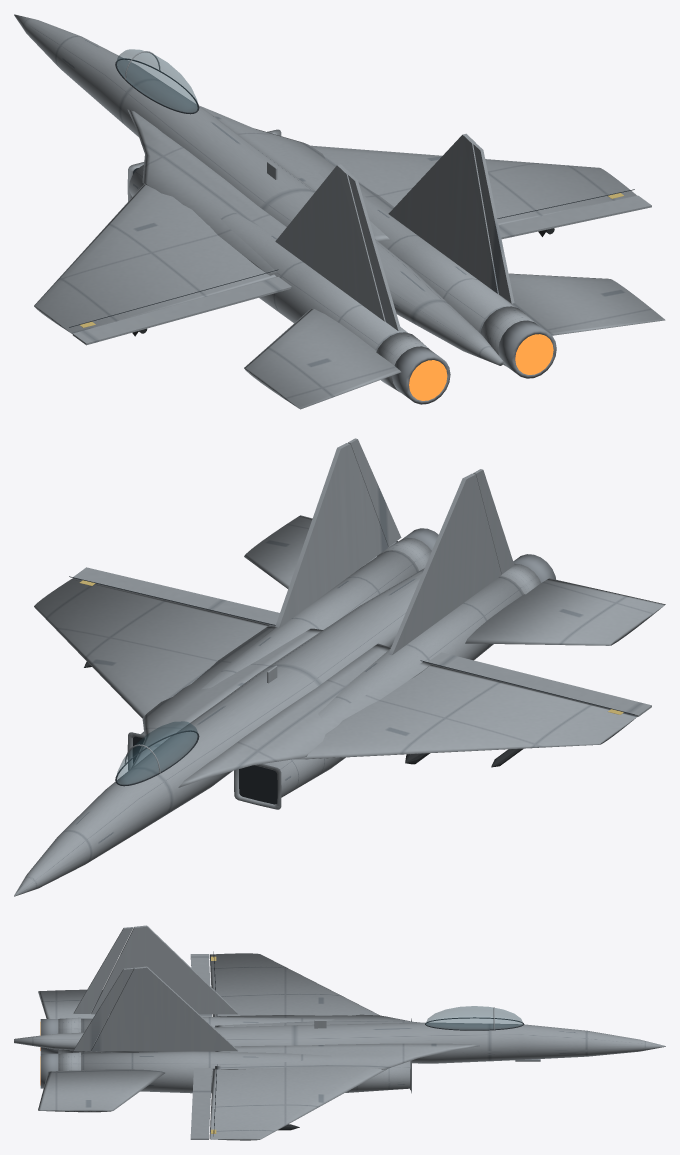
The model's file is wings_su35s.glb.
3 renders of one model, top to bottom at view 1: azimuth 30°, elevation 25°; view 2: azimuth 150°, elevation 25°; view 3: azimuth 270°, elevation 25°, orthographic. The views are drawn at different scales.
Visible parts, largest first — view 1: airframe_static, tailplane_L, tailplane_R, elevon_L, canopy, elevon_R, rudder_2, rudder_1, afterburner_L, afterburner_R; view 2: airframe_static, tailplane_L, elevon_L, canopy, elevon_R, tailplane_R, rudder_2, rudder_1; view 3: airframe_static, tailplane_R, canopy, elevon_R, rudder_1, tailplane_L, rudder_2, elevon_L.
Part boxes in pixels (box(x1,y1,x2,y2)): airframe_static: box(14, 14, 636, 404); tailplane_L: box(244, 309, 401, 409); tailplane_R: box(498, 273, 665, 335); elevon_L: box(72, 277, 291, 345); canopy: box(115, 49, 199, 114); elevon_R: box(499, 195, 651, 239); rudder_2: box(473, 143, 514, 303); rudder_1: box(348, 174, 401, 331); afterburner_L: box(409, 360, 447, 400); afterburner_R: box(515, 334, 553, 374); airframe_static: box(14, 443, 637, 896); tailplane_L: box(465, 578, 665, 645); elevon_L: box(428, 652, 651, 716); canopy: box(115, 721, 199, 786); elevon_R: box(72, 567, 279, 624); tailplane_R: box(244, 515, 397, 588); rudder_2: box(348, 438, 401, 546); rudder_1: box(473, 469, 514, 574); airframe_static: box(14, 925, 665, 1140); tailplane_R: box(38, 1069, 164, 1112); canopy: box(425, 1006, 523, 1030); elevon_R: box(190, 1068, 212, 1139); rudder_1: box(73, 927, 133, 1013); tailplane_L: box(38, 989, 109, 1018); rudder_2: box(73, 968, 133, 1050); elevon_L: box(190, 954, 211, 1016).
Bounding box in the file's own units: 14.7 × 4.74 × 21.9.
7 materials, 1 textured.
